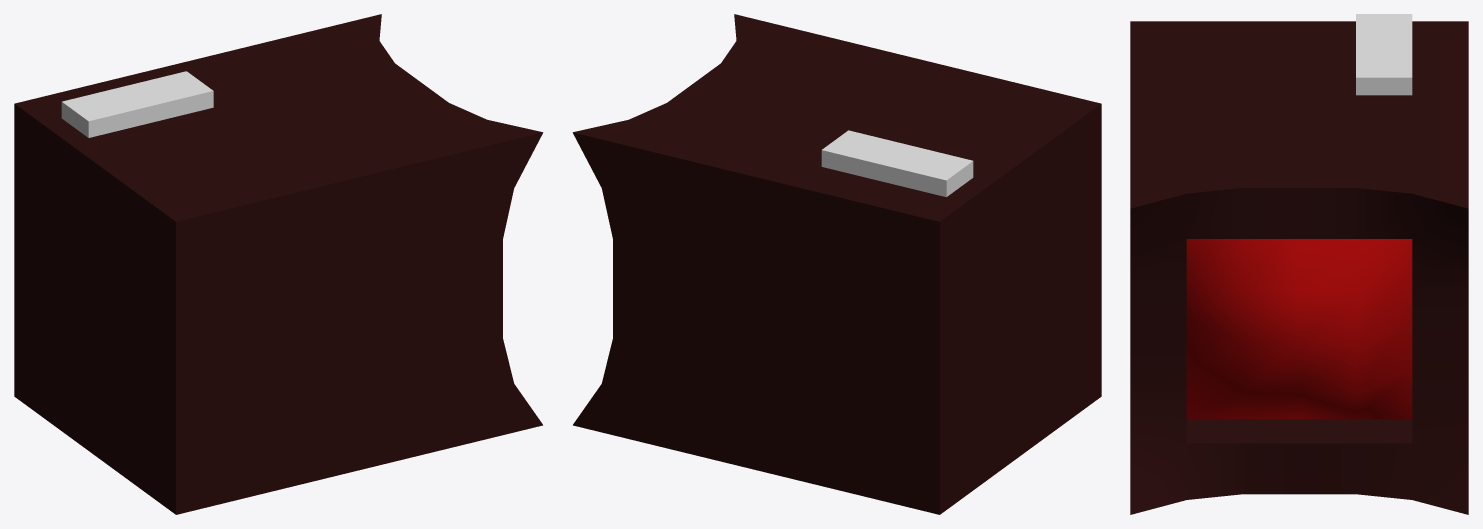
Rendered from LaserSensor.fbx.
The picture shows the model from 3 angles, left to right: view 1: azimuth 30°, elevation 25°; view 2: azimuth 150°, elevation 25°; view 3: azimuth 270°, elevation 25°; orthographic projection. The views are drawn at different scales.
Visible parts, largest first — view 1: LaserSensor1, LaserSensorButton; view 2: LaserSensor1, LaserSensorButton; view 3: LaserSensor1, LaserSensorButton.
Boxes of the visible parts, x1=… form: LaserSensor1: x1=14, y1=14, x2=543, y2=514; LaserSensorButton: x1=61, y1=71, x2=213, y2=137; LaserSensor1: x1=572, y1=14, x2=1101, y2=514; LaserSensorButton: x1=821, y1=130, x2=973, y2=197; LaserSensor1: x1=1130, y1=21, x2=1468, y2=514; LaserSensorButton: x1=1356, y1=14, x2=1412, y2=95.
Bounding box in the file's own units: 0.656 × 0.5286 × 0.5.
